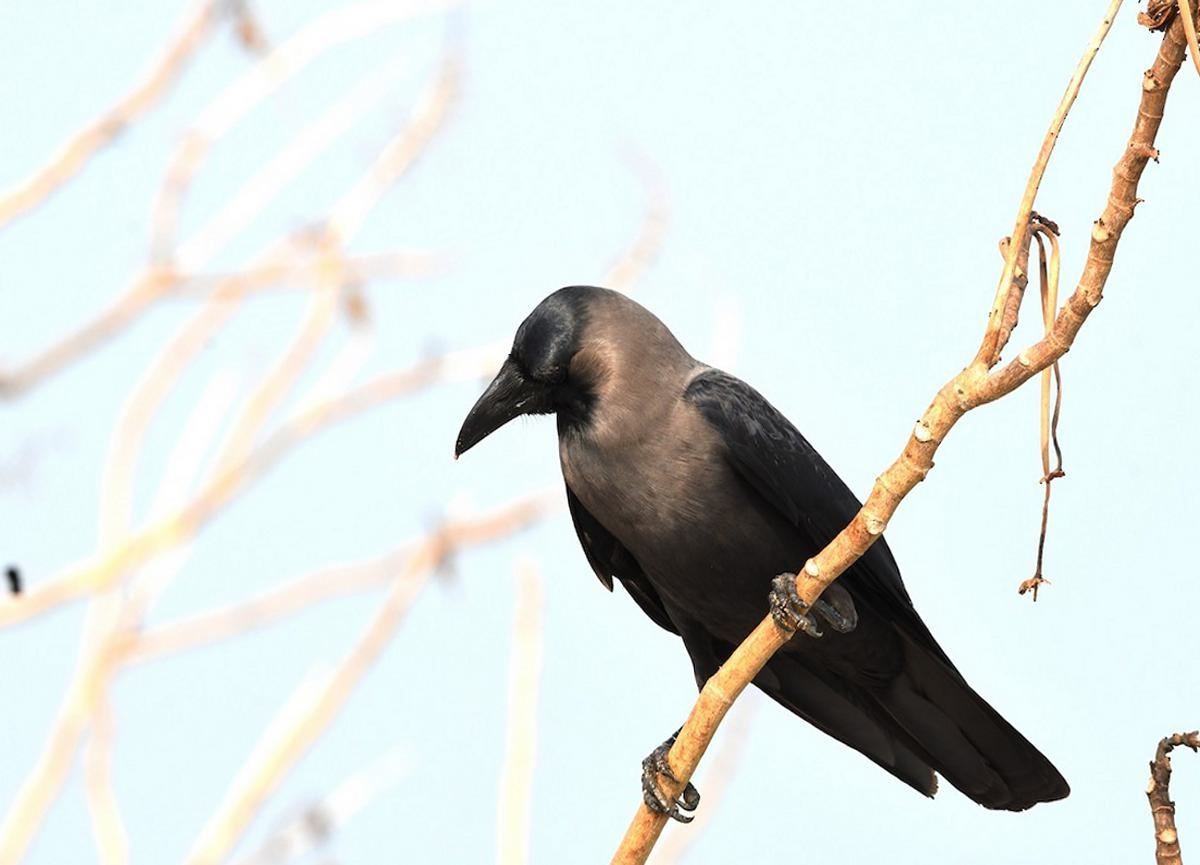crow: (446, 277, 1069, 841)
